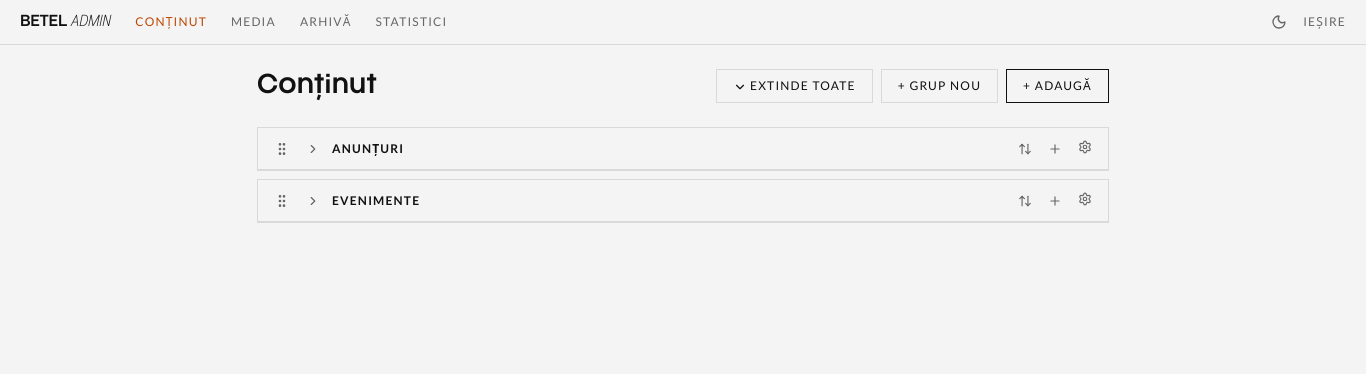
Test: Toggle all groups button › collapses all groups when clicked and all are expanded
Click the button with test id "toggle-all-groups-btn": point(795, 86) [716,69,873,103]
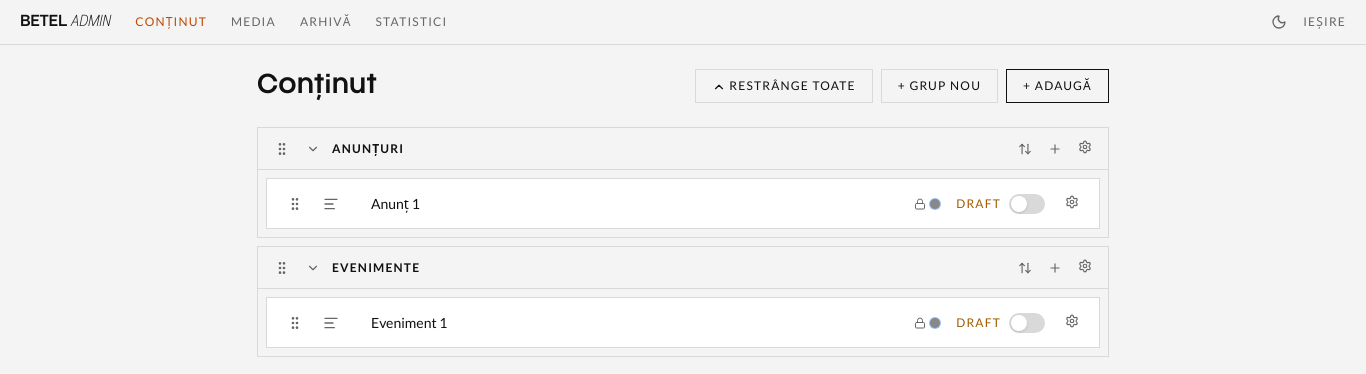
Click the button with test id "toggle-all-groups-btn": point(784, 86) [695,69,873,103]
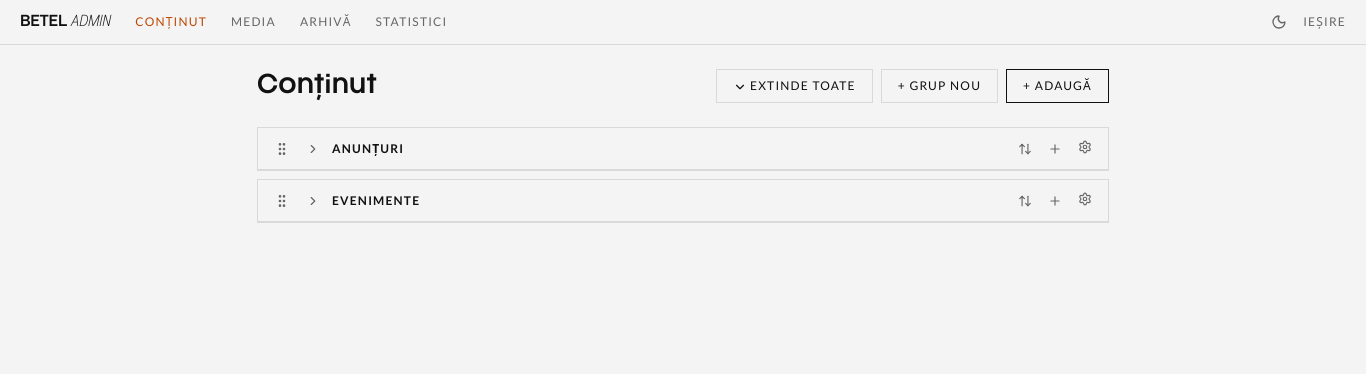
Now the list with test id "container-g1" is gone
Now the list with test id "container-g2" is gone
